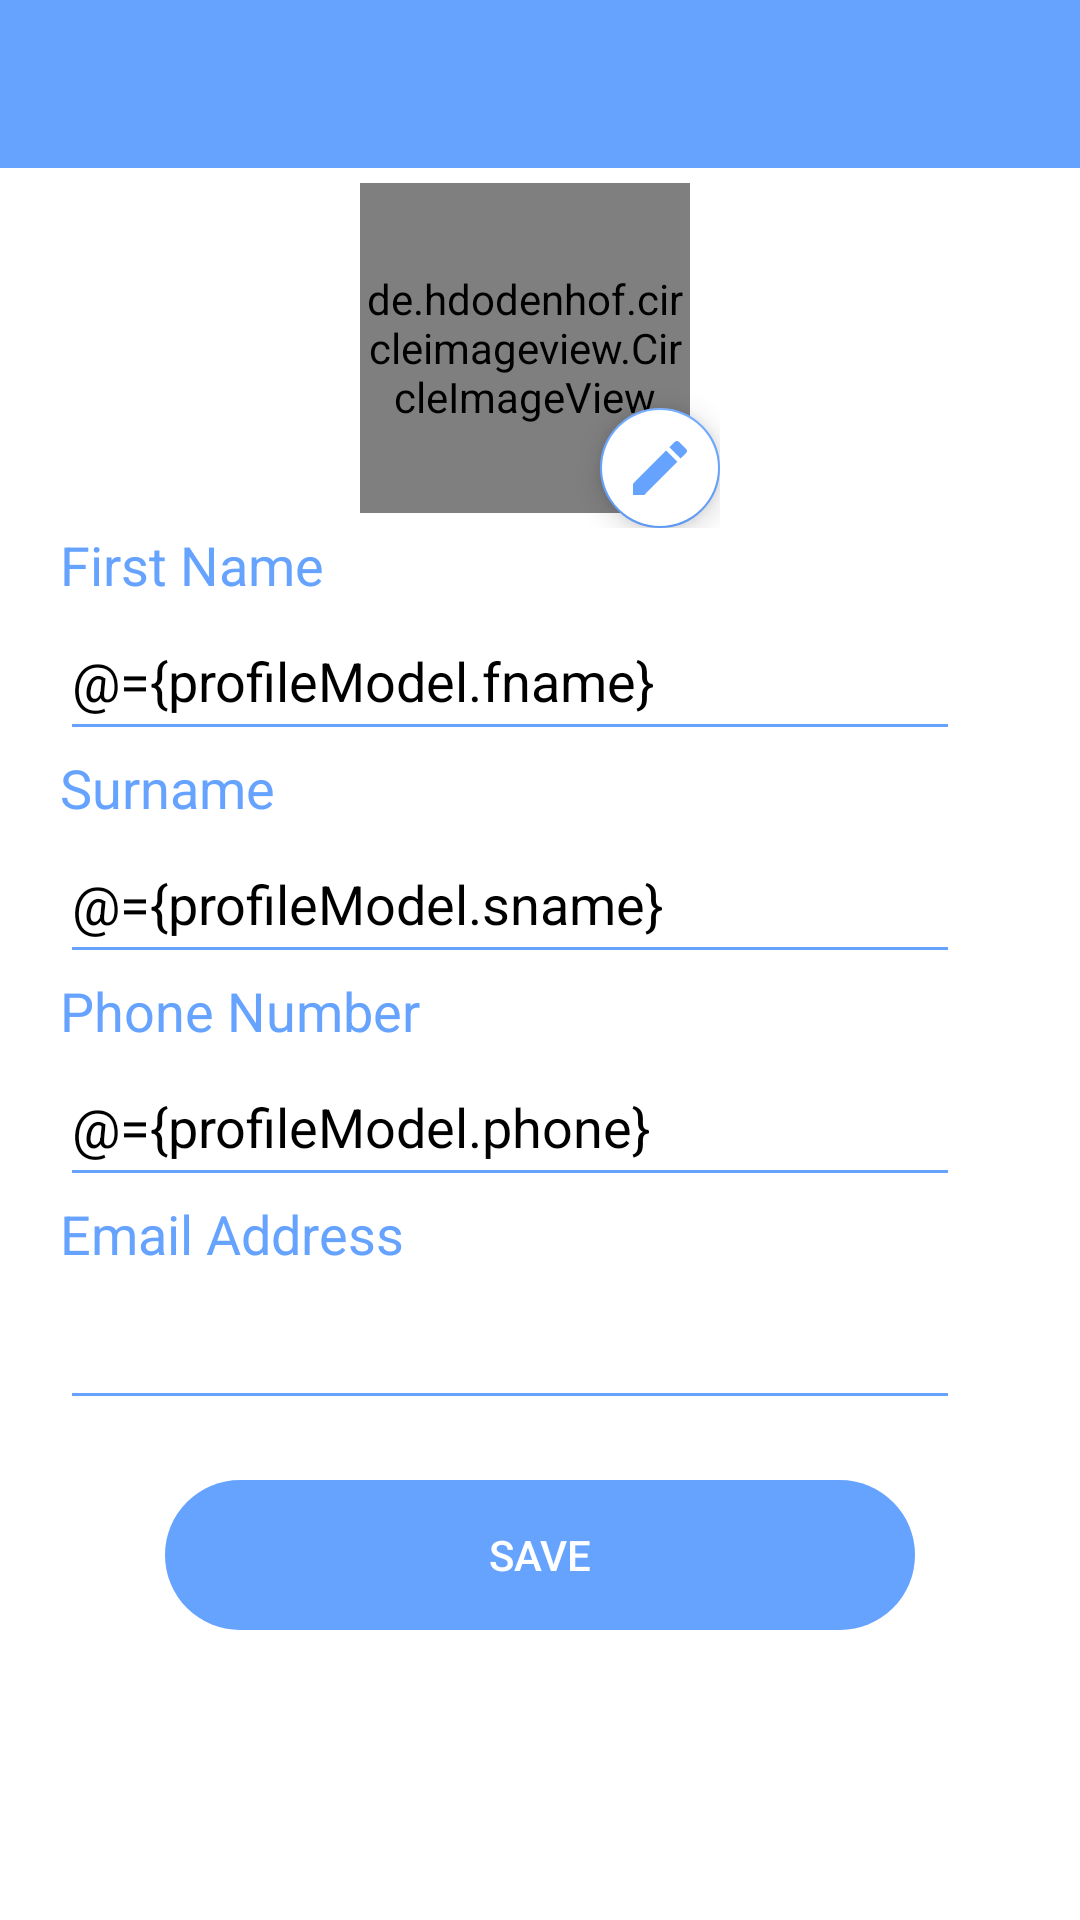

Where to tap for icons on this 1080 x 1920 app screen, as (x,y):
edit: (660,468)
